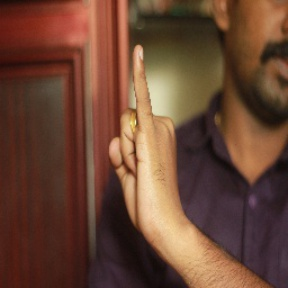I: (107, 39, 187, 228)
